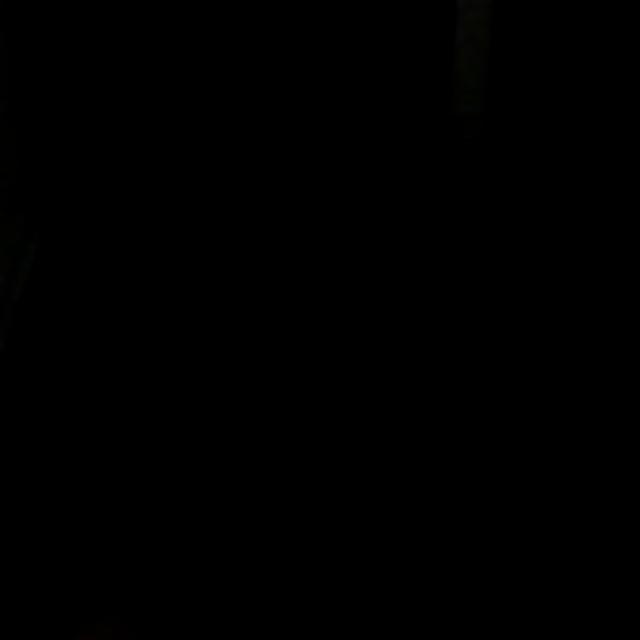Dog: (187, 76, 556, 630)
